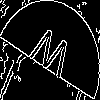W: (25, 24, 74, 88)
